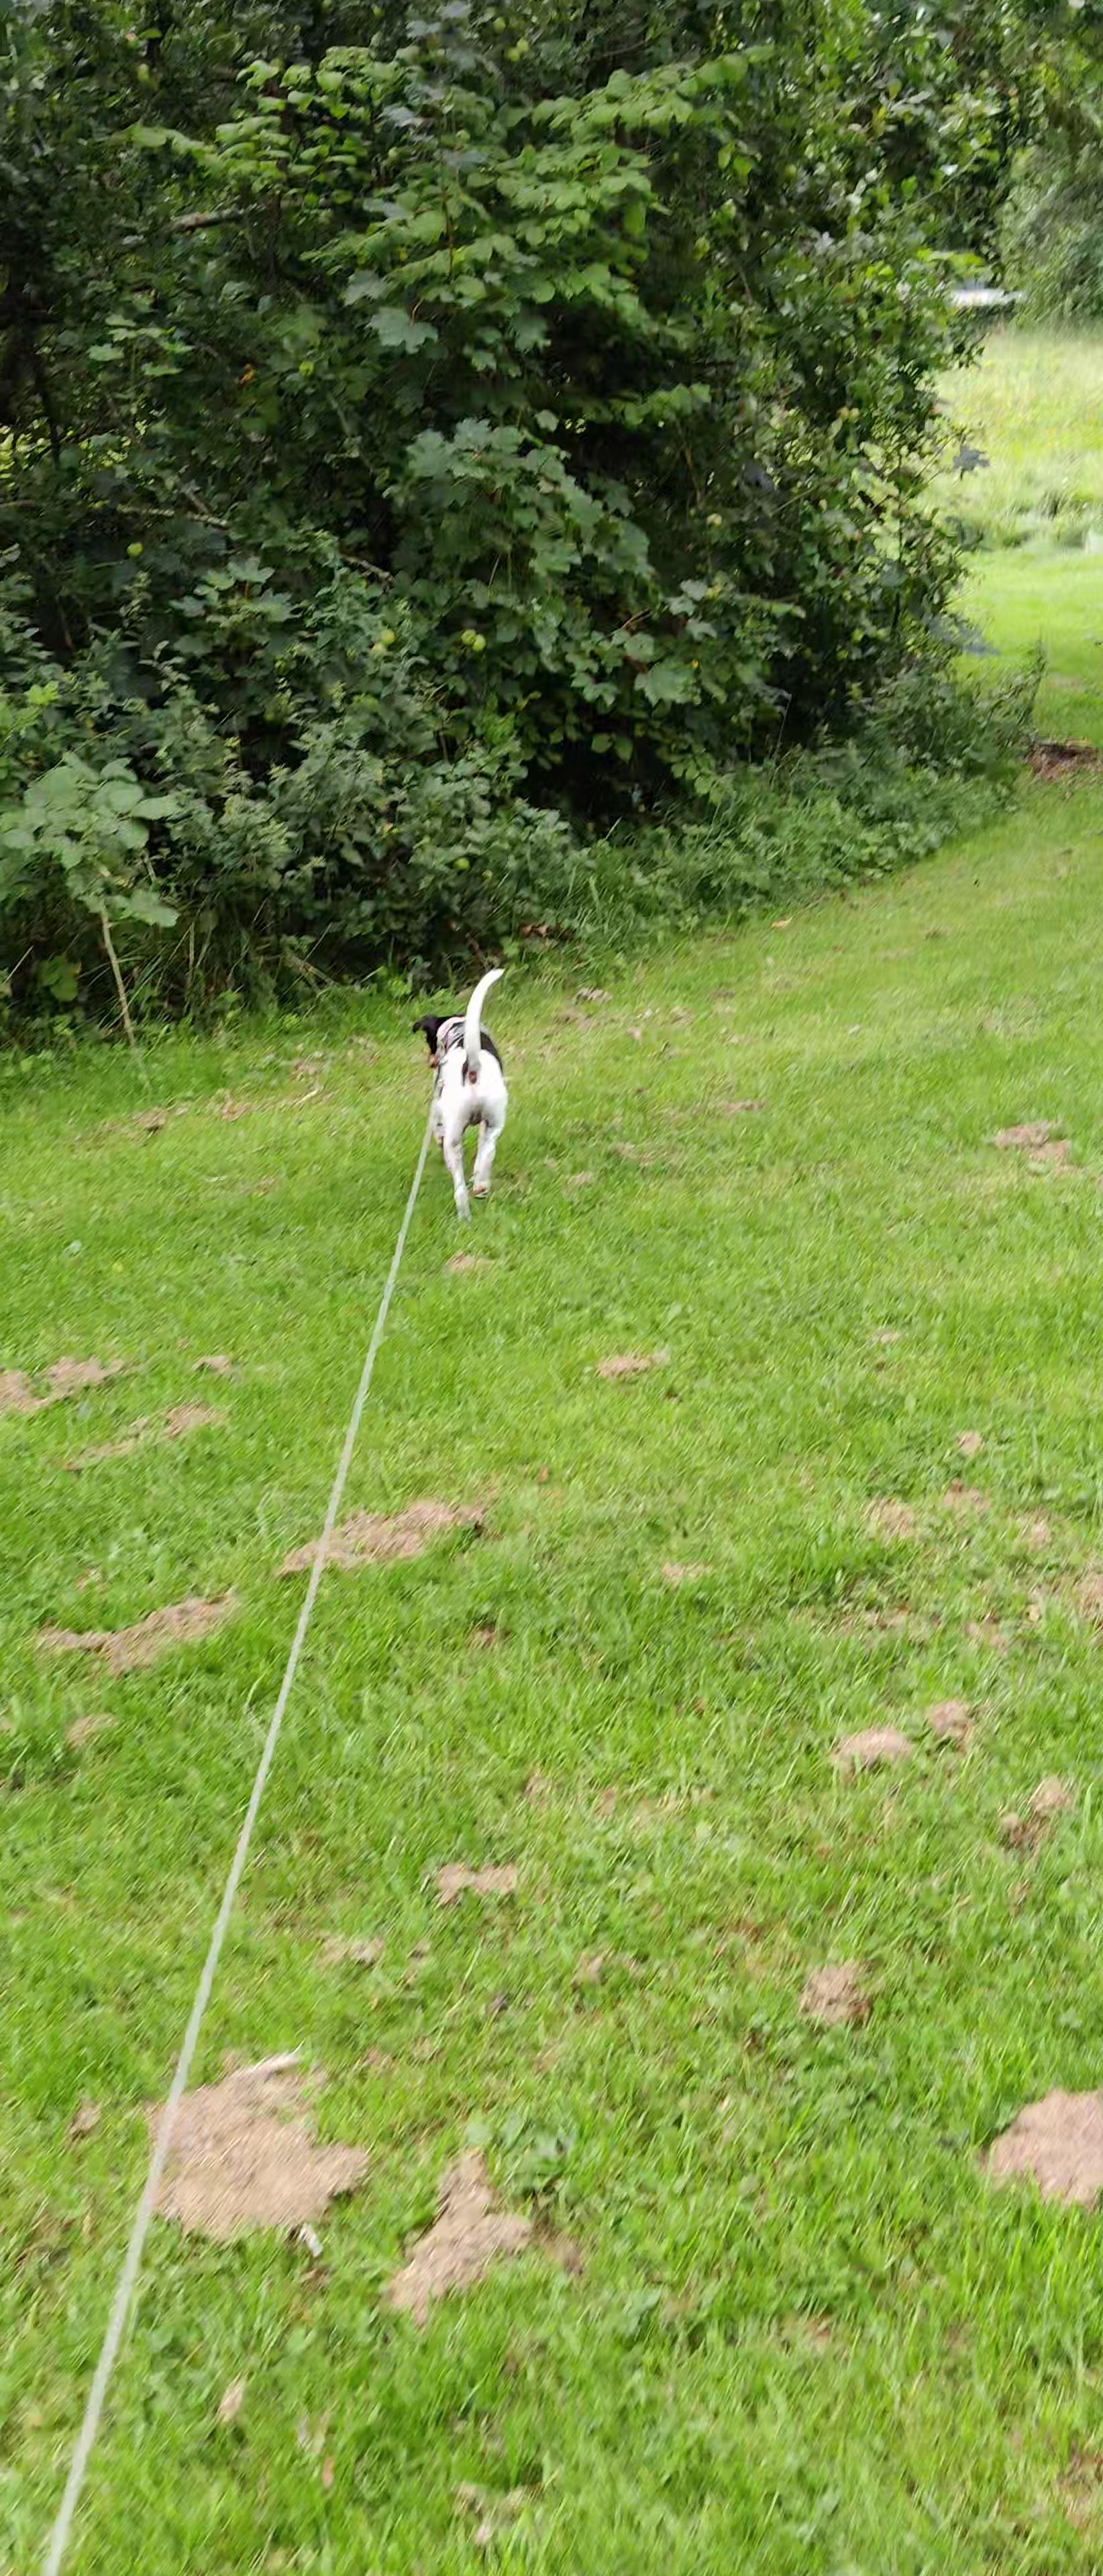Dog: (390, 958, 538, 1240)
